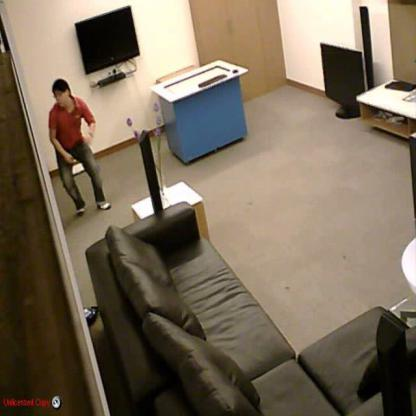Person: (48, 80, 110, 214)
